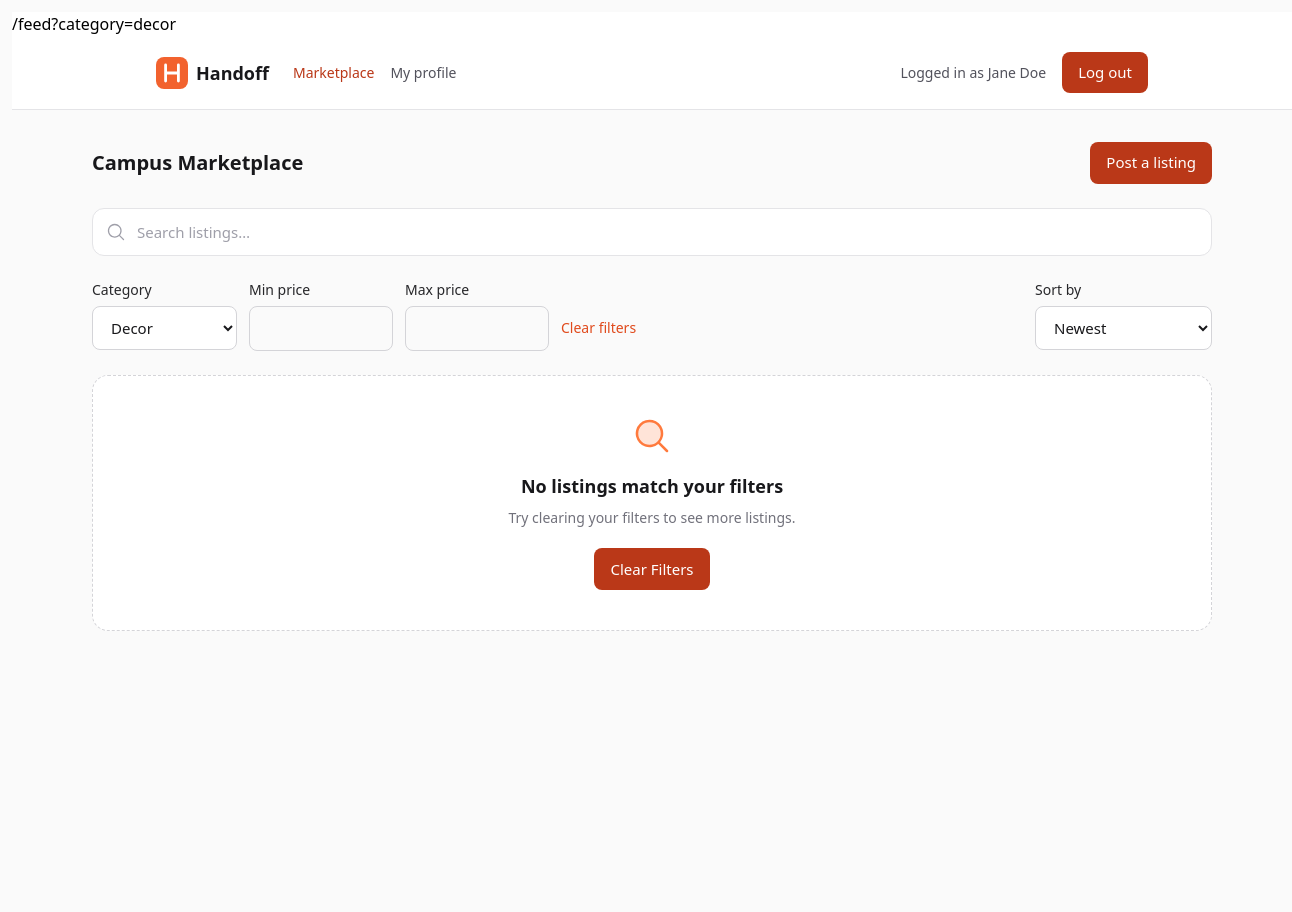
FeedPage › Clear filters cancels pending keyword and price changes
Expected: the heading "No listings match your filters" is shown, [521, 474, 783, 498]
Type "lamp" into the search field labelled "Search listings" at (652, 232), box [92, 208, 1212, 256]
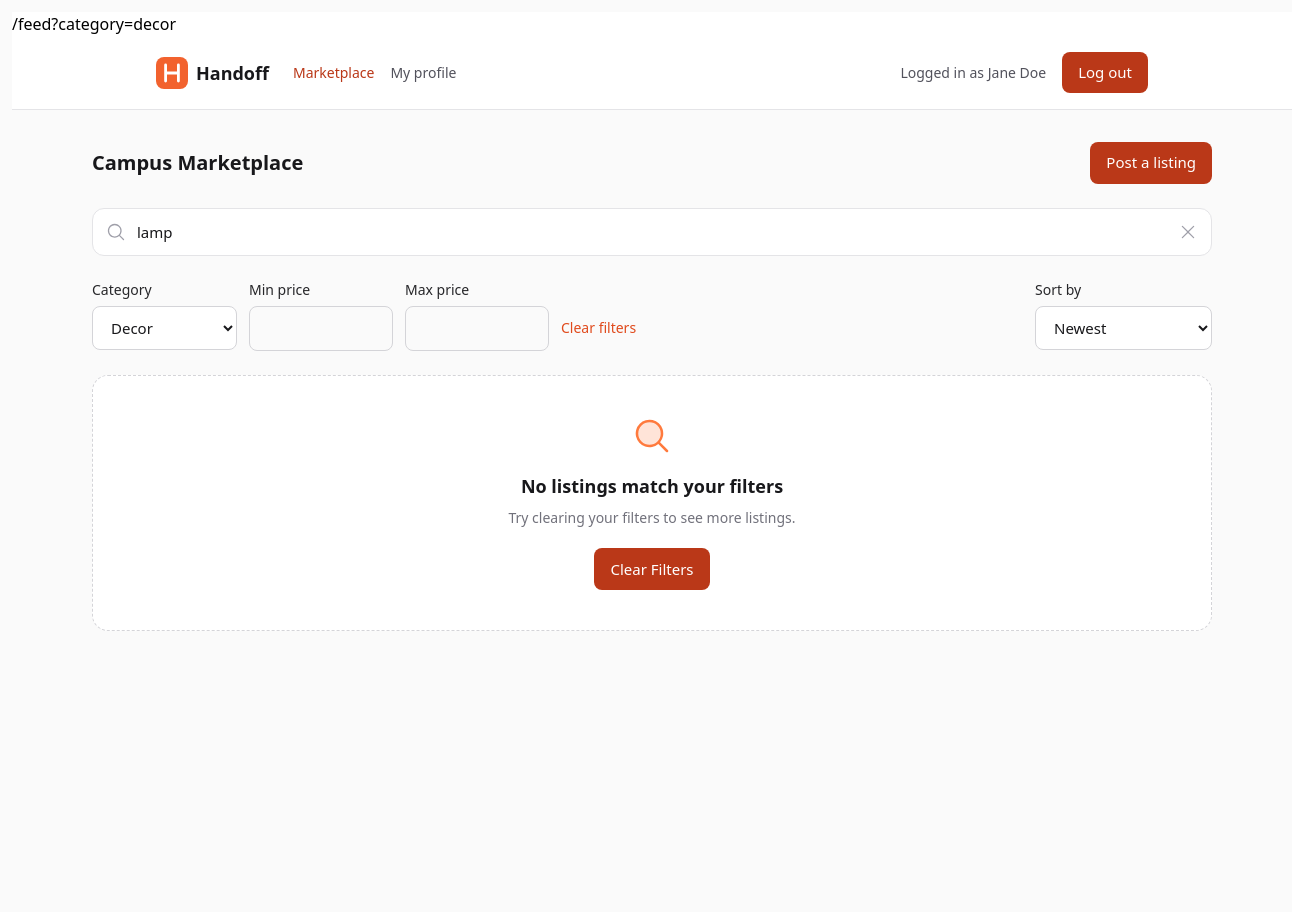
Type "15" into the number field labelled "Min price" at (321, 329), box [249, 306, 393, 351]
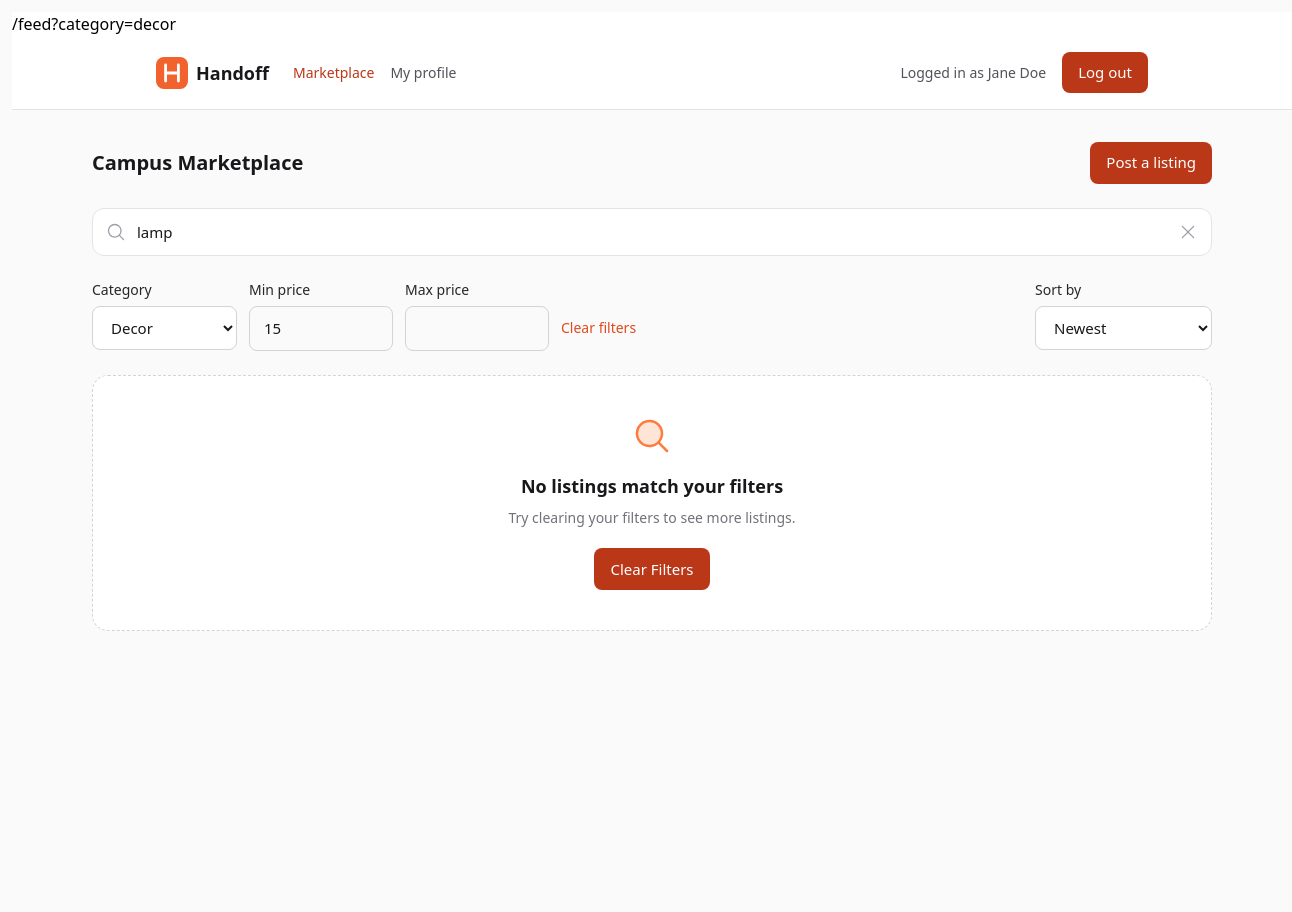
Click the button "Clear filters" at (599, 328), box [561, 306, 636, 350]
Wait 400 ms
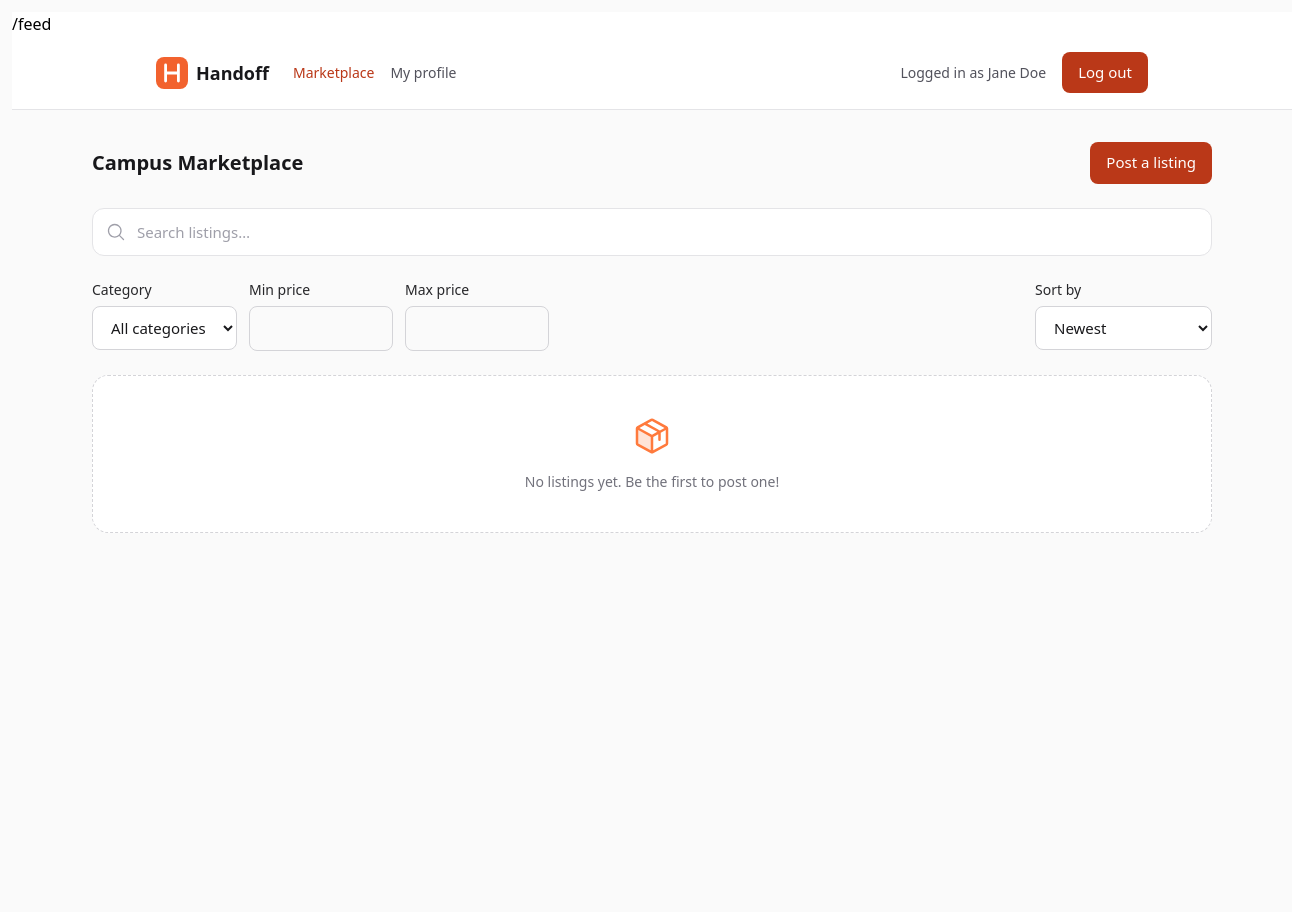
Expected: the text with test id "location" reads "/feed", [12, 13, 51, 35]
Result: the search field labelled "Search listings" is empty at [92, 208, 1212, 256]
Result: the number field labelled "Min price" is not empty at [249, 306, 393, 351]
